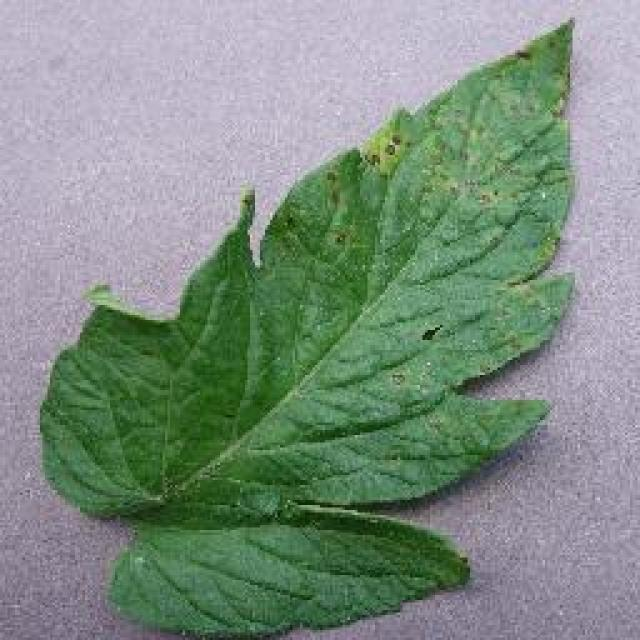Tomato___Septoria_leaf_spot: (40, 22, 570, 635)
